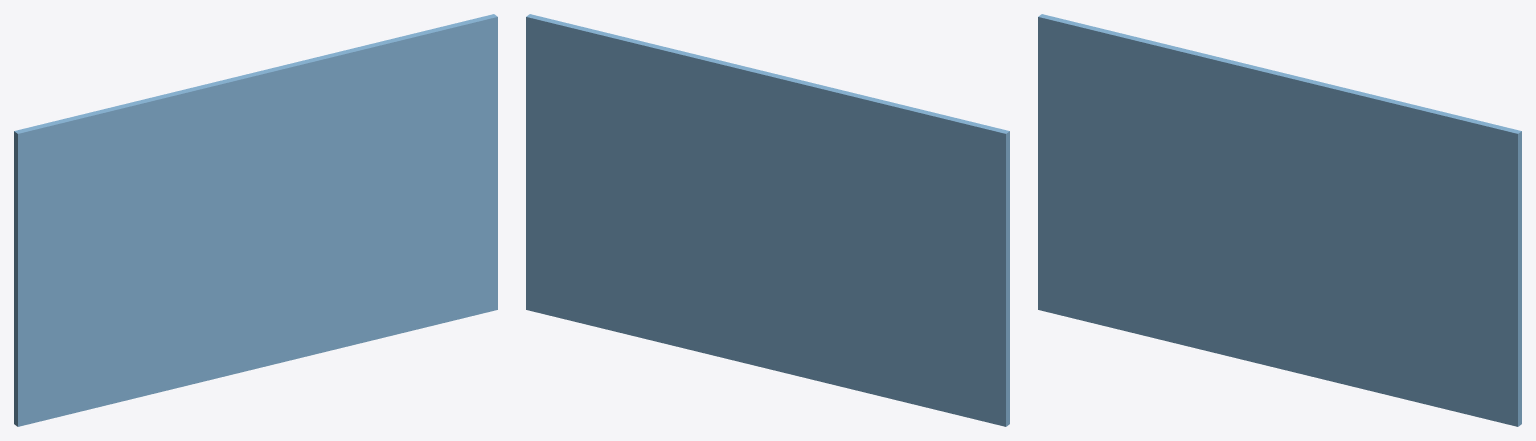
File: glass thing2.glb
3 renders of one model, left to right at view 1: azimuth 30°, elevation 25°; view 2: azimuth 150°, elevation 25°; view 3: azimuth 330°, elevation 25°, orthographic.
Visible parts, largest first — view 1: Cube; view 2: Cube; view 3: Cube.
Part boxes in pixels (<box>): Cube: <box>14,14,497,426</box>; Cube: <box>526,14,1009,426</box>; Cube: <box>1038,14,1521,426</box>.
Size of the model in its own units: 12 by 7 by 0.1679.
